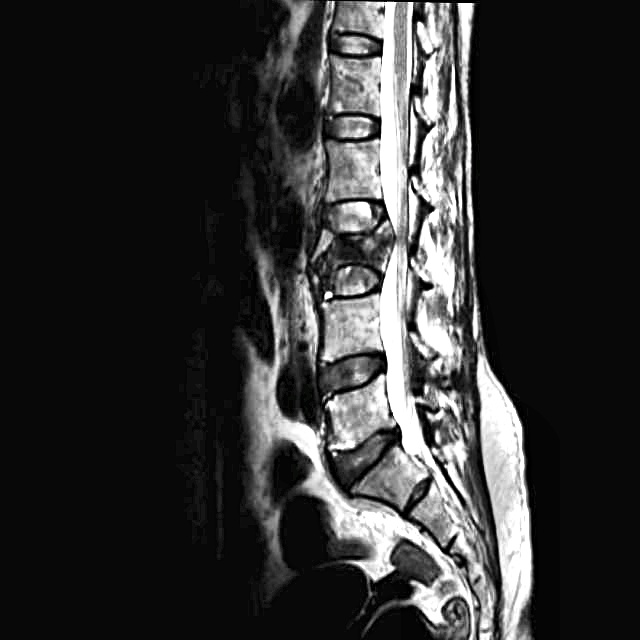Comminuted: (295, 194, 407, 307)
